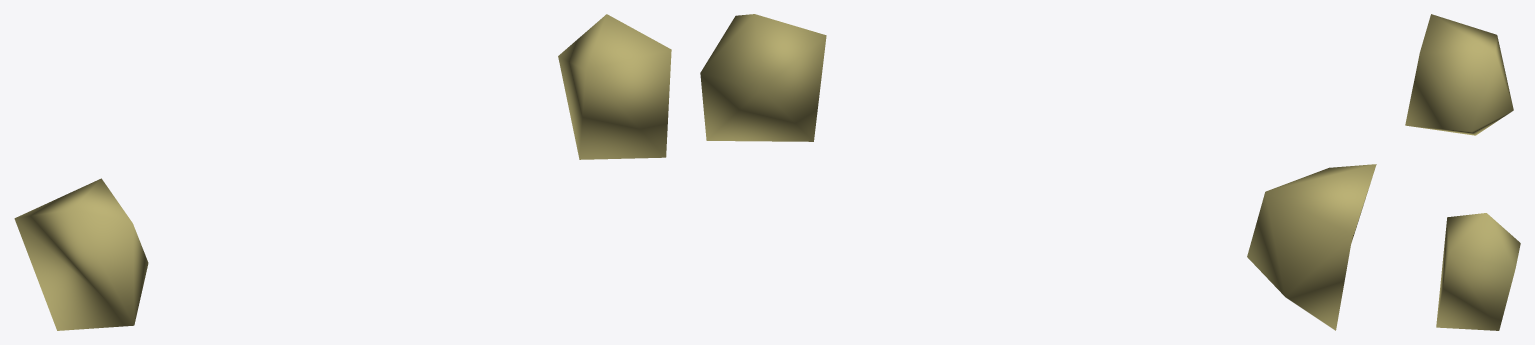
3 views of the same model, side by side, from view 1: azimuth 30°, elevation 25°; view 2: azimuth 150°, elevation 25°; view 3: azimuth 270°, elevation 25° (orthographic). The views are drawn at different scales.
Parts seen in each view (by area): view 1: LOD 5_5261851821754165480_820756dedd5b3434c8e6bed8ae6a193b; view 2: LOD 5_5261851821754165480_820756dedd5b3434c8e6bed8ae6a193b; view 3: LOD 5_5261851821754165480_820756dedd5b3434c8e6bed8ae6a193b.
Boxes of the visible parts, x1,y1,x2,y2 form: LOD 5_5261851821754165480_820756dedd5b3434c8e6bed8ae6a193b: (14,14,671,330); LOD 5_5261851821754165480_820756dedd5b3434c8e6bed8ae6a193b: (700,14,1376,330); LOD 5_5261851821754165480_820756dedd5b3434c8e6bed8ae6a193b: (1405,14,1520,330).
Size of the model in its own units: 1.1 by 0.2944 by 0.216.
